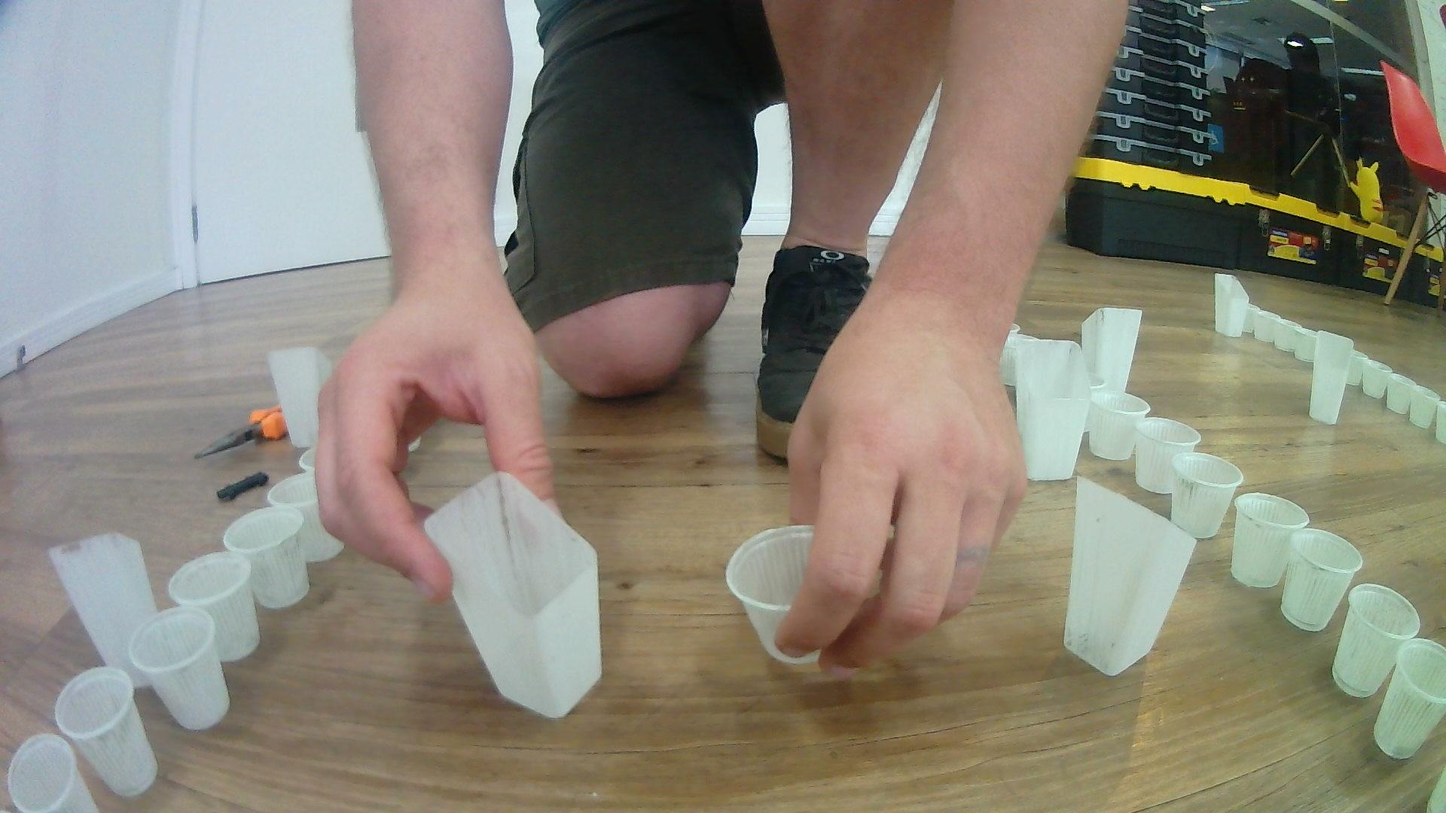erva_daninha: (424, 472, 602, 718), (1062, 476, 1197, 678), (49, 532, 165, 677), (1011, 370, 1091, 482), (269, 346, 334, 450), (1080, 306, 1142, 399), (1307, 329, 1356, 426), (1214, 272, 1251, 338)
planta: (724, 524, 825, 667), (52, 665, 159, 798), (122, 604, 232, 732), (1329, 582, 1420, 699), (167, 550, 260, 663), (1371, 637, 1446, 761), (224, 504, 311, 610), (1280, 528, 1364, 633), (1230, 492, 1310, 589), (6, 734, 101, 813), (266, 470, 346, 563), (1170, 451, 1244, 540), (1133, 417, 1201, 495), (1088, 392, 1150, 462), (1022, 337, 1082, 400), (1063, 371, 1106, 437), (1000, 333, 1035, 386), (1409, 386, 1440, 430), (1385, 372, 1417, 414), (1362, 360, 1393, 398), (1255, 314, 1283, 352), (1274, 321, 1301, 359), (1294, 329, 1322, 364), (1243, 307, 1266, 343), (1347, 351, 1368, 385), (297, 449, 320, 477), (1435, 400, 1446, 445), (1008, 323, 1023, 336)
